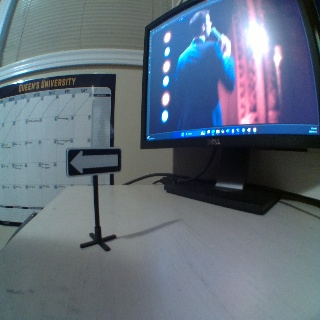sign_oneway_left: (66, 147, 121, 173)
